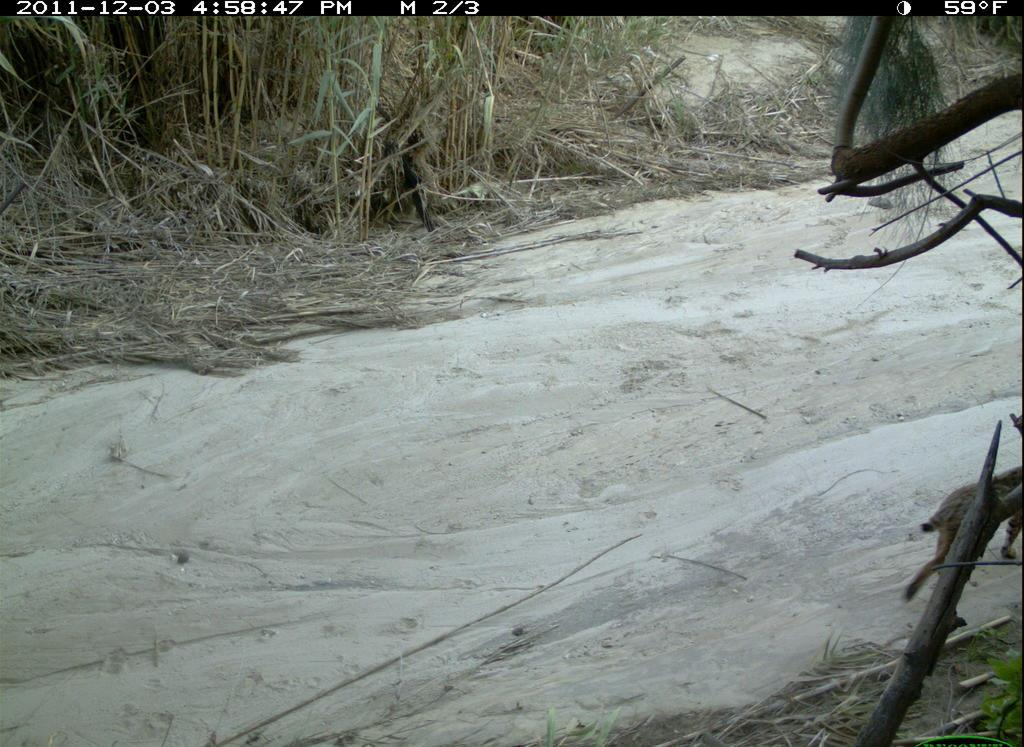bobcat: (898, 464, 1022, 609)
